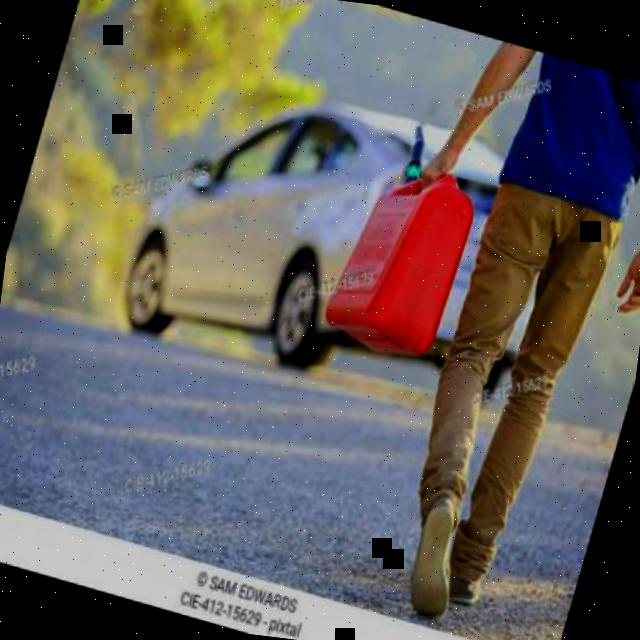chemical_plastic_gallon: (314, 106, 500, 378)
